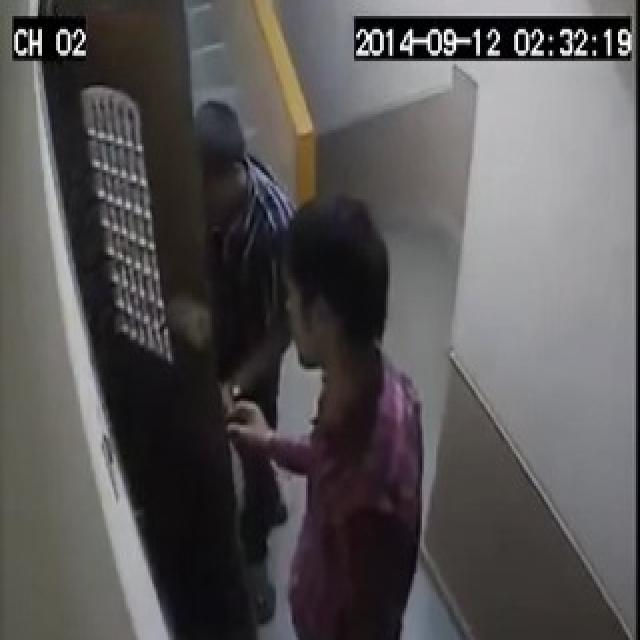burglary: (79, 156, 381, 566)
